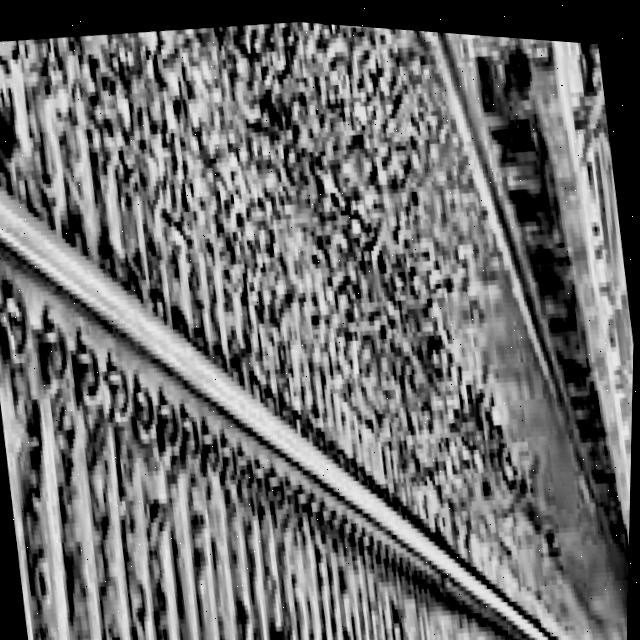Gerbong: (455, 27, 629, 383), (525, 245, 636, 520), (373, 22, 601, 88), (592, 486, 632, 615)
Lokomotif: (605, 491, 632, 636)
